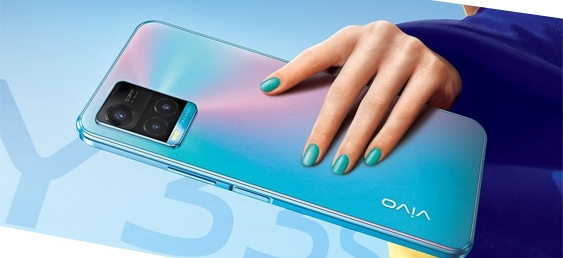phones: (52, 16, 497, 258)
